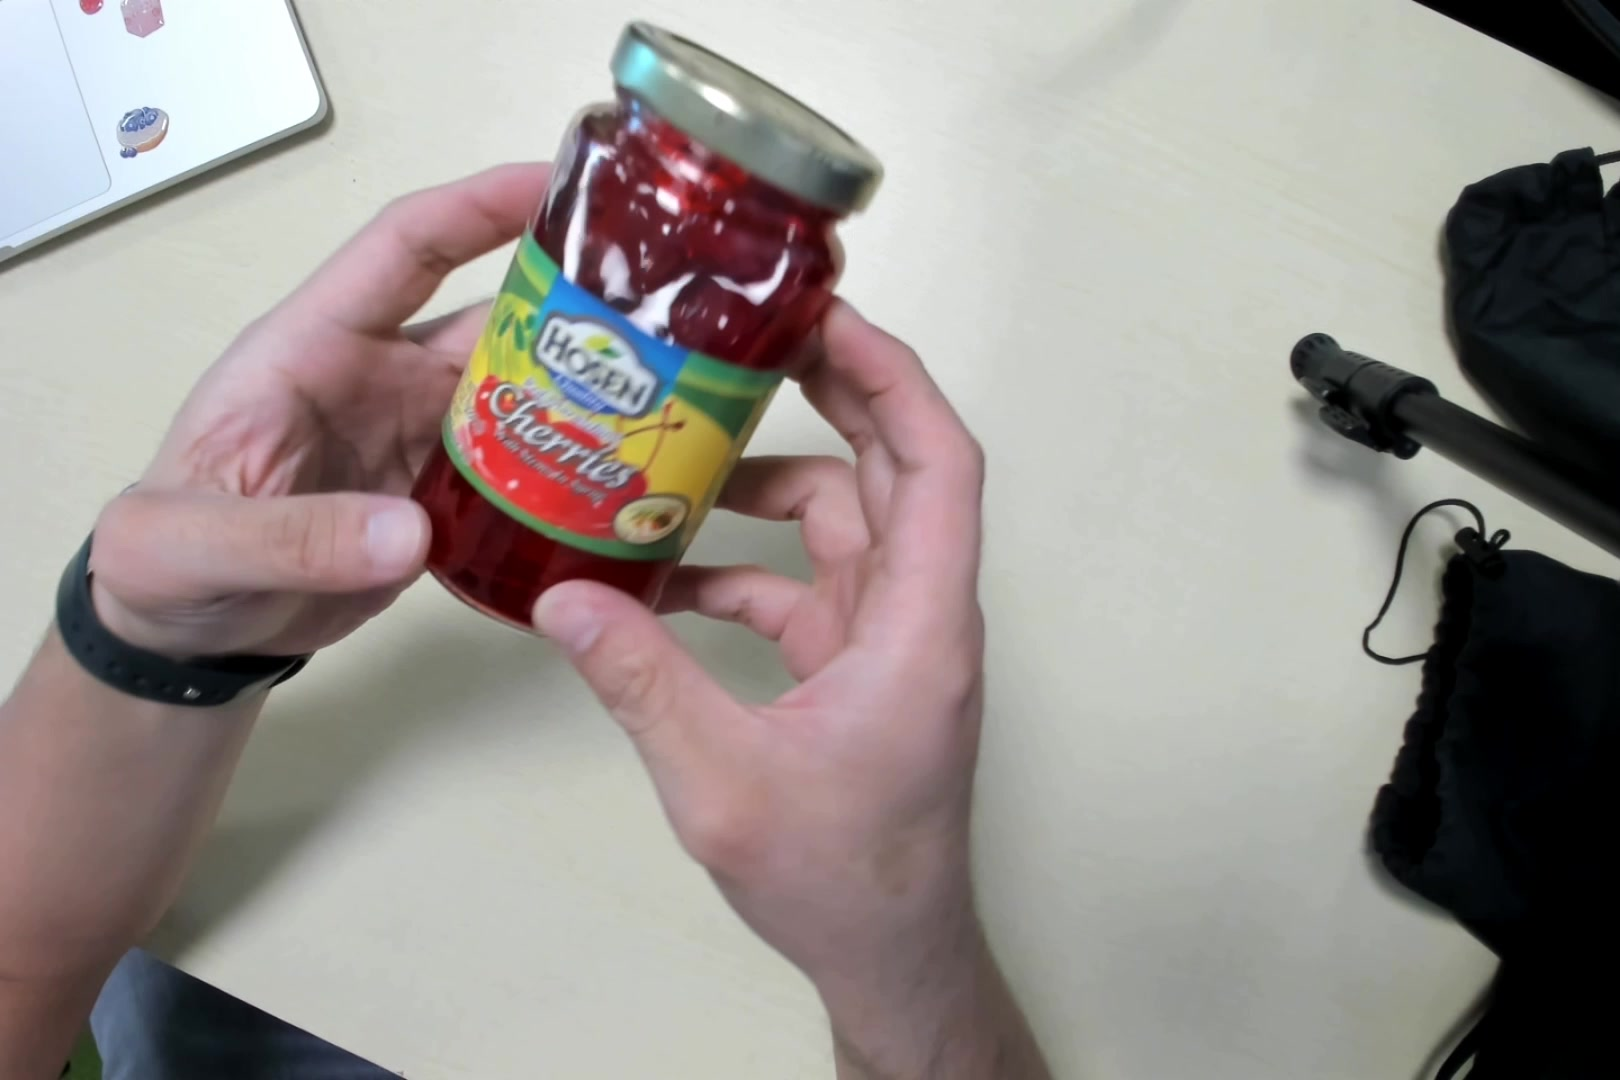OtherBakingNeeds_200-299g_NonHalal_NonHealthy: (424, 27, 858, 639)
